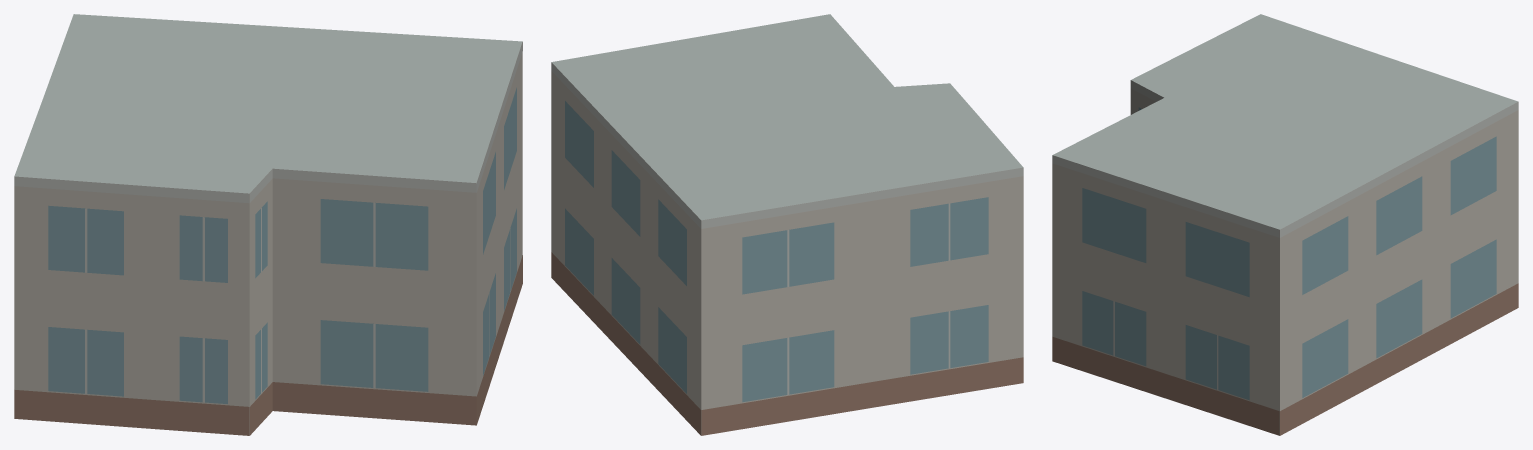
The model's file is survey-upis-32678300.glb.
The picture shows the model from 3 angles, left to right: view 1: azimuth 30°, elevation 25°; view 2: azimuth 150°, elevation 25°; view 3: azimuth 270°, elevation 25°; orthographic projection. The views are drawn at different scales.
Visible parts, largest first — view 1: survey-upis-32678300.tmp; view 2: survey-upis-32678300.tmp; view 3: survey-upis-32678300.tmp.
Boxes of the visible parts, x1,y1,x2,y2 form: survey-upis-32678300.tmp: (14, 14, 522, 435); survey-upis-32678300.tmp: (551, 14, 1023, 435); survey-upis-32678300.tmp: (1052, 14, 1518, 435).
Bounding box in the file's own units: 13.7 × 6.1 × 12.51.
